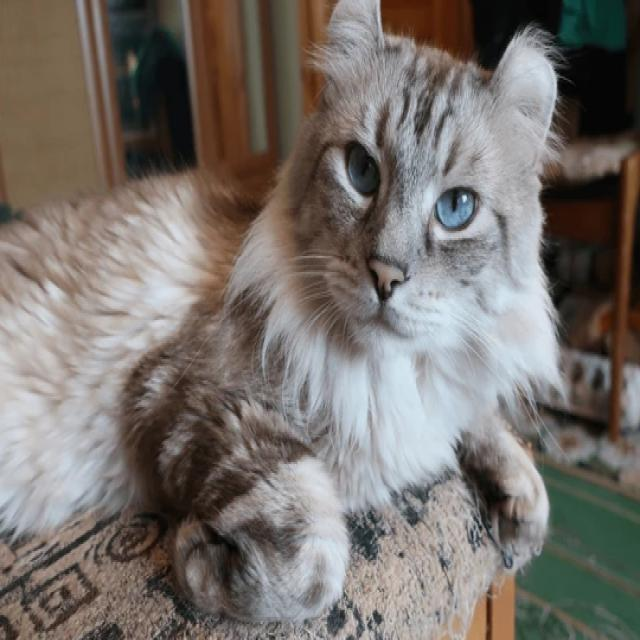American Curl: (0, 0, 560, 629)
